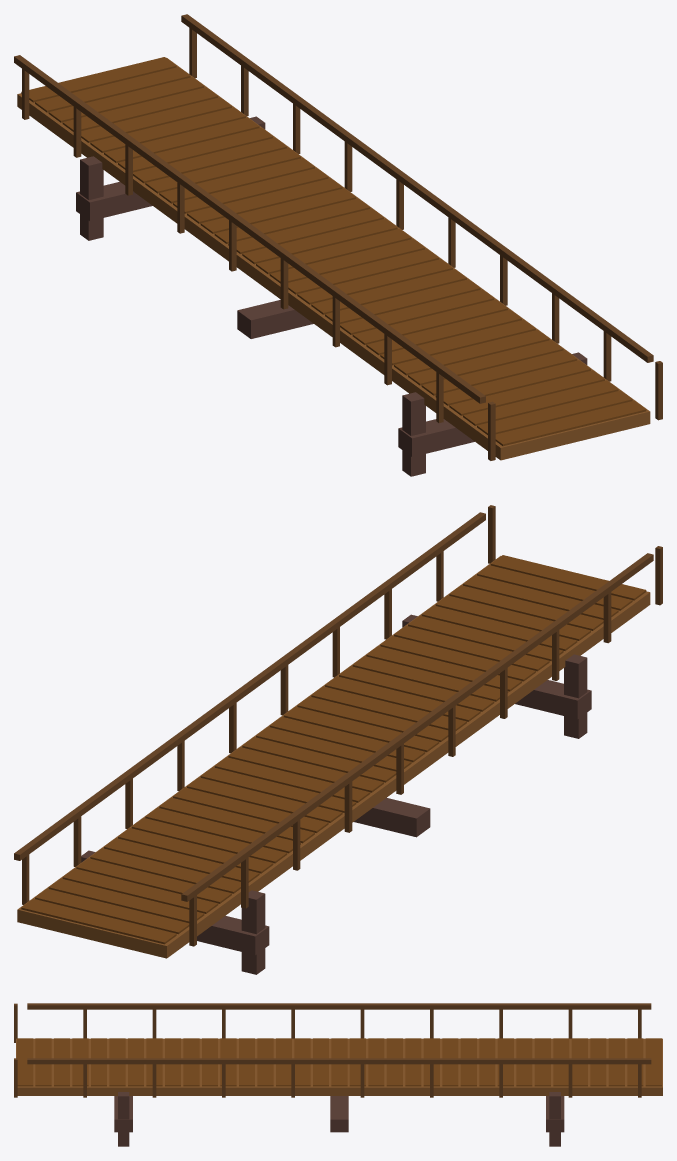
The model's file is wooden-footbridge-authored-atlas.glb.
The picture shows the model from 3 angles, top to bottom: view 1: azimuth 30°, elevation 25°; view 2: azimuth 150°, elevation 25°; view 3: azimuth 270°, elevation 25°; orthographic projection. The views are drawn at different scales.
Parts seen in each view (by area): view 1: Authored surface.389; view 2: Authored surface.389; view 3: Authored surface.389.
Boxes of the visible parts, x1,y1,x2,y2 form: Authored surface.389: (14,14,662,476); Authored surface.389: (14,505,662,974); Authored surface.389: (14,1003,662,1146).
Bounding box in the file's own units: 3 × 2.05 × 14.04.
Materials: 1 (1 with a texture image).
